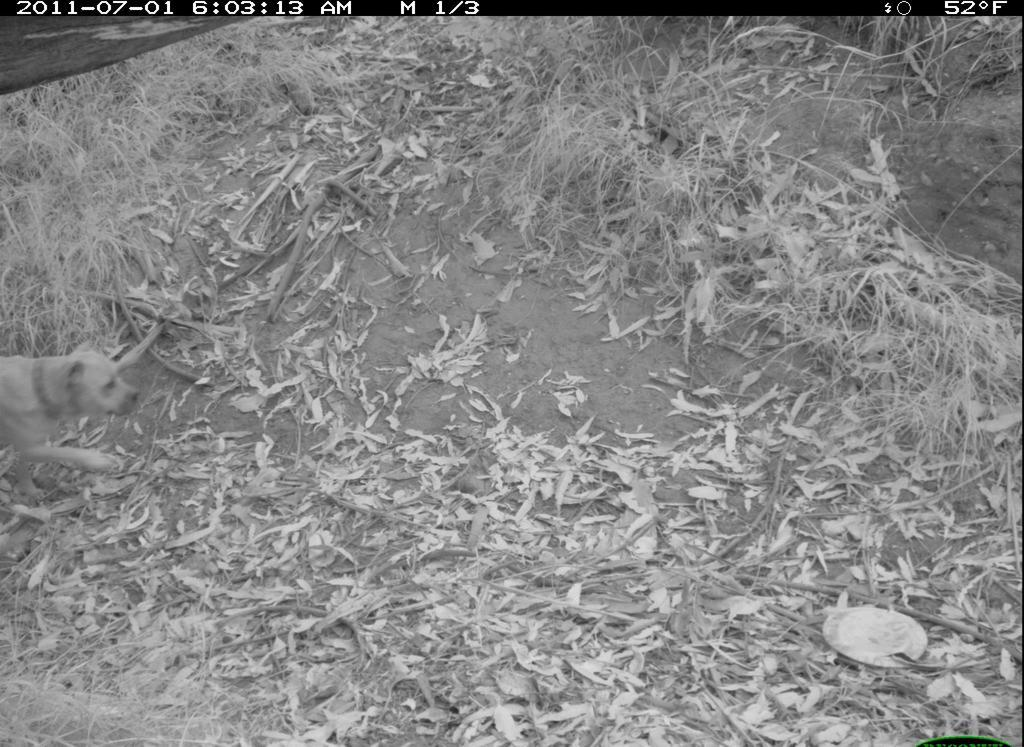dog: (4, 340, 143, 500)
